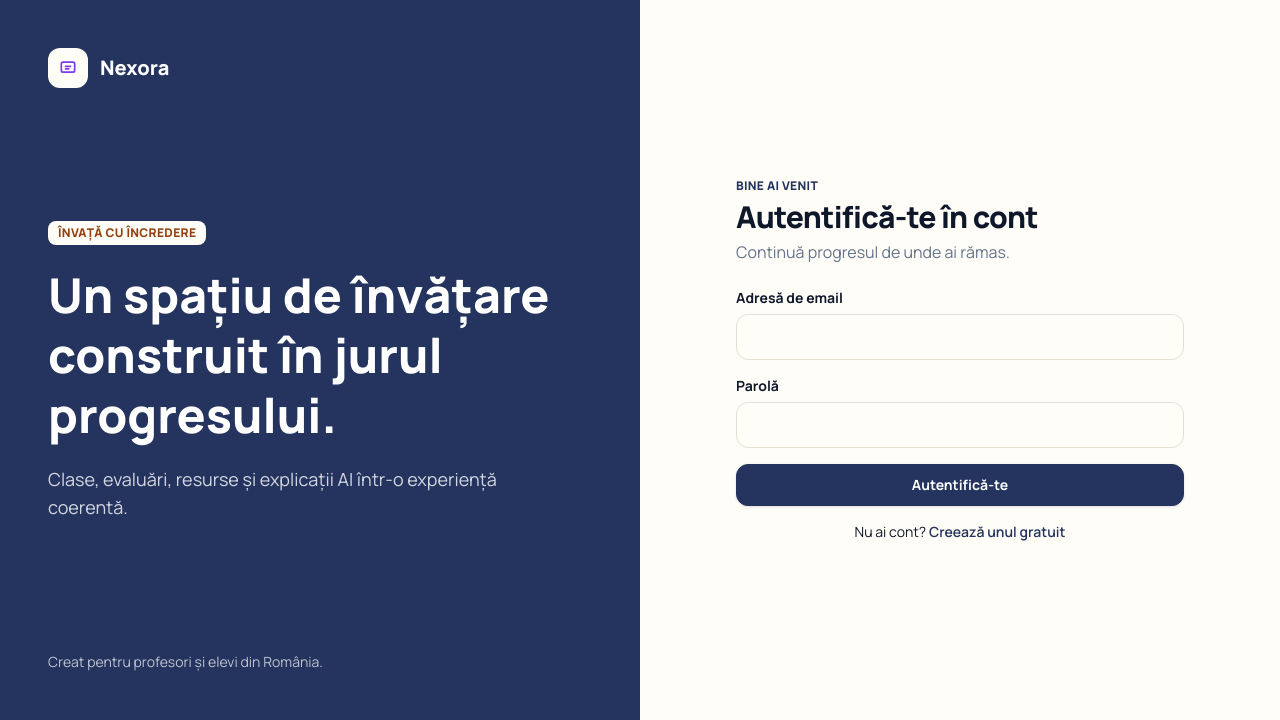
signing in › sends a student who was bounced from a teacher page to the student home, not to /forbidden
Type "ana@example.com" into the field labelled "Adresă de email" at (960, 337), box [736,314,1184,360]
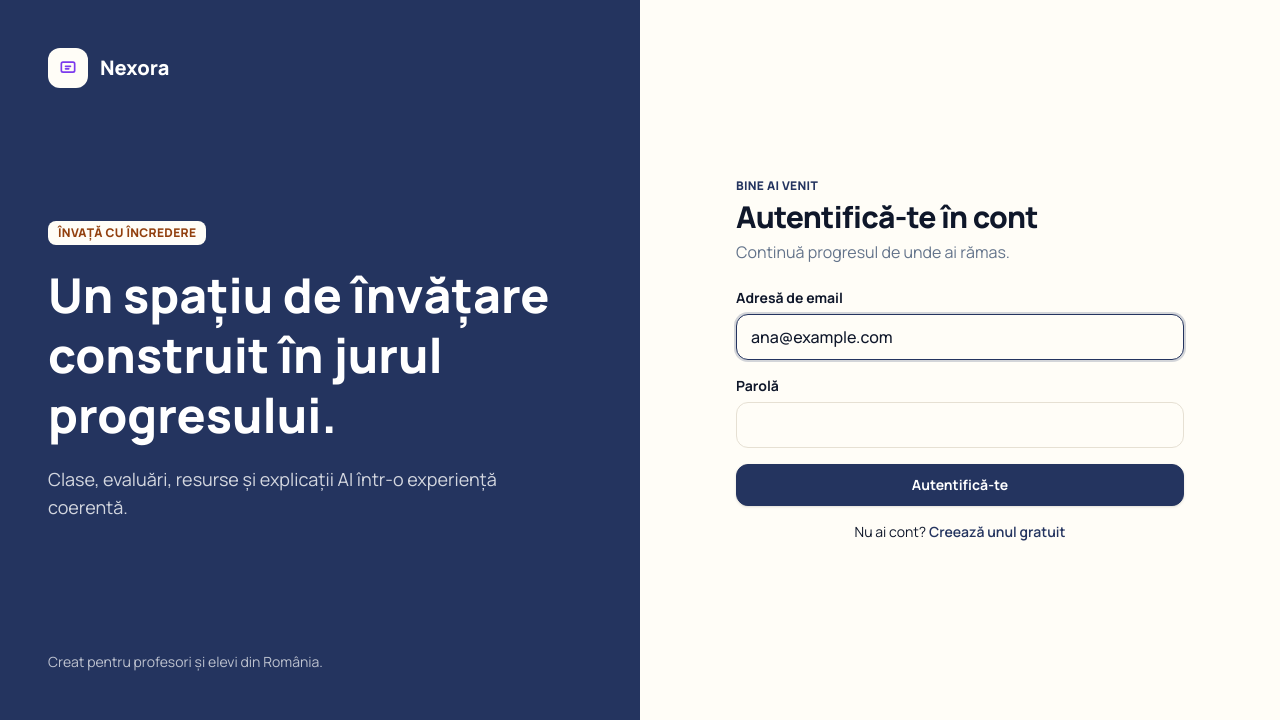
Type "parola-lunga" into the password field labelled "Parolă" at (960, 425), box [736,402,1184,448]
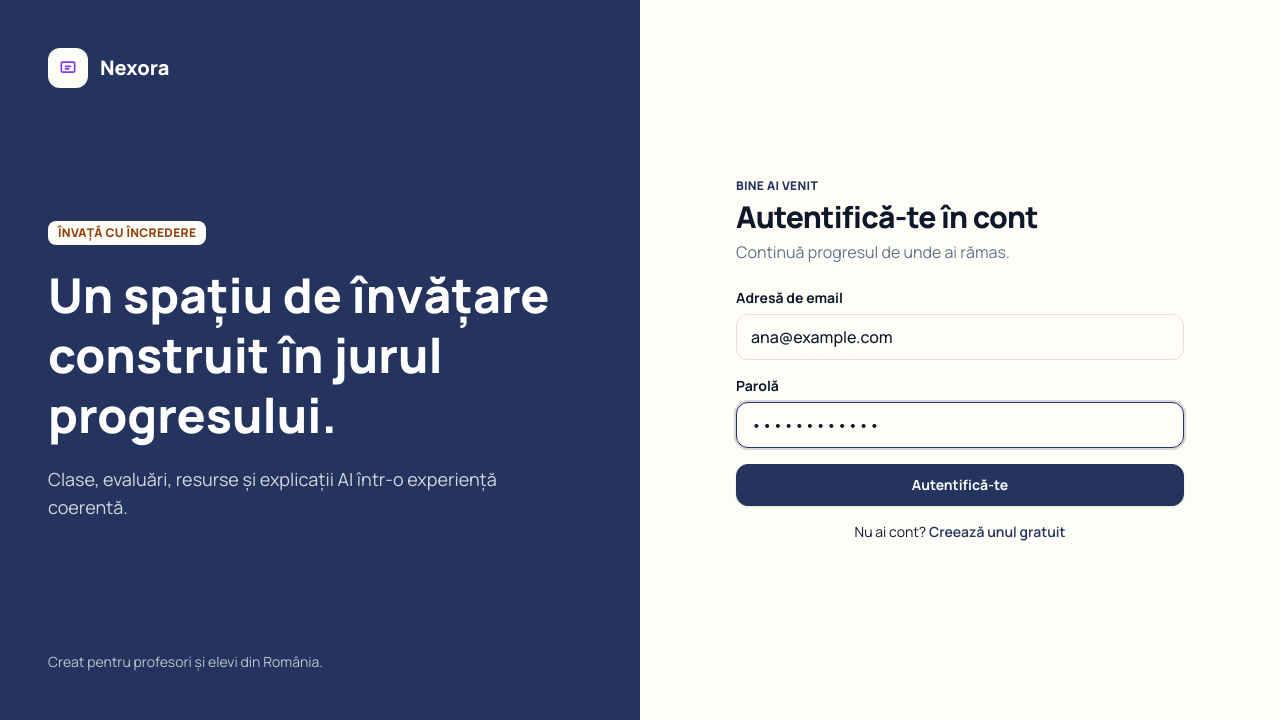
Click the button "Autentifică-te" at (960, 485), box [736,464,1184,506]
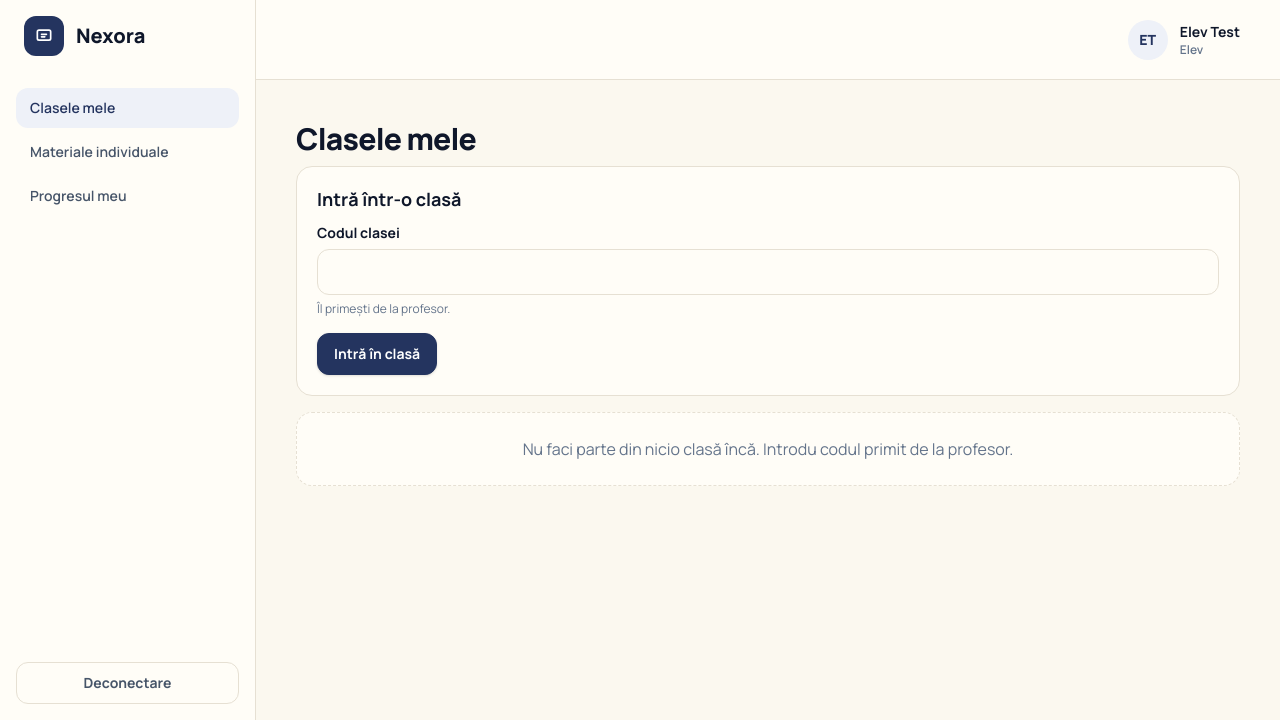
Expected: the heading "Clasele mele" is shown, [296,118,476,159]
Expected: the heading "Intră într-o clasă" is shown, [317,186,462,210]
